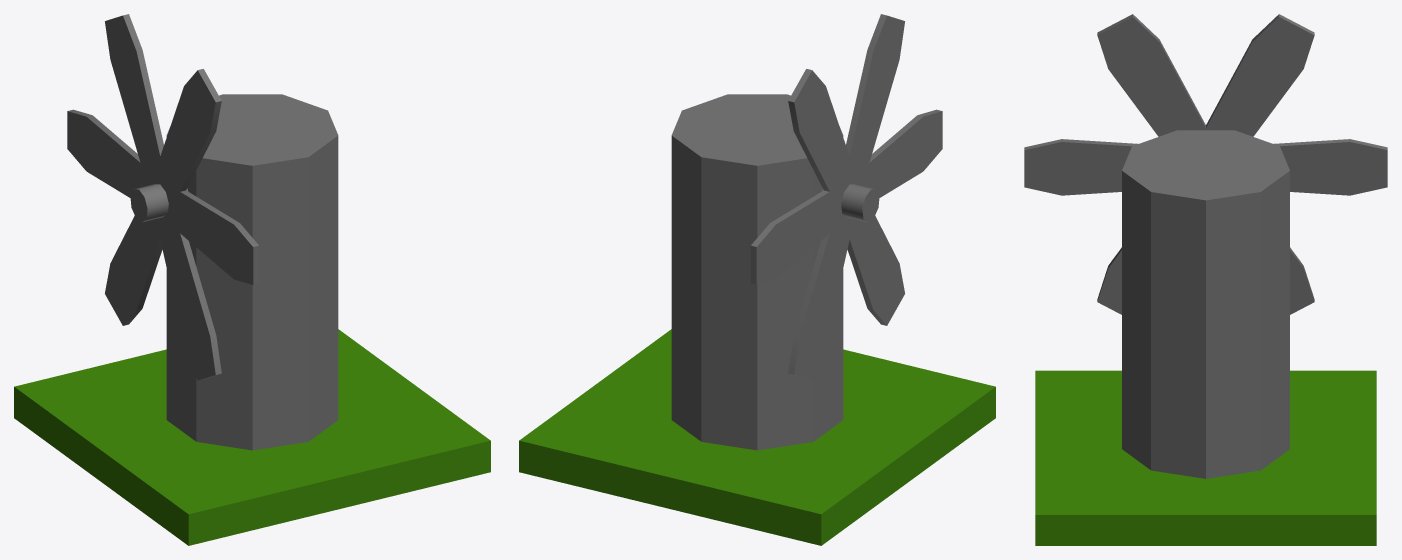
The model's file is Farm0.obj.
3 views of the same model, side by side, from view 1: azimuth 30°, elevation 25°; view 2: azimuth 150°, elevation 25°; view 3: azimuth 270°, elevation 25° (orthographic). The views are drawn at different scales.
Visible parts, largest first — view 1: Tilebase108, Cylinder040, Box698, Box701, Box699, Box700, Box697, Box702, Cylinder041; view 2: Tilebase108, Cylinder040, Box699, Box697, Box702, Box698, Box700, Box701, Cylinder041; view 3: Cylinder040, Tilebase108, Box699, Box698, Box700, Box697, Box702, Box701.
Boxes of the visible parts, box(x1,y1,x2,y2) form: Tilebase108: box(14, 329, 490, 545); Cylinder040: box(166, 94, 338, 450); Box698: box(105, 14, 165, 185); Box701: box(160, 206, 221, 380); Box699: box(154, 69, 221, 205); Box700: box(166, 184, 259, 284); Box697: box(67, 109, 154, 197); Box702: box(105, 215, 166, 325); Cylinder041: box(130, 184, 188, 222); Tilebase108: box(519, 329, 995, 545); Cylinder040: box(671, 94, 843, 450); Box699: box(843, 14, 904, 185); Box697: box(750, 183, 843, 284); Box702: box(788, 215, 854, 380); Box698: box(788, 69, 855, 191); Box700: box(855, 109, 942, 197); Box701: box(843, 215, 904, 325); Cylinder041: box(821, 184, 879, 222); Cylinder040: box(1122, 130, 1289, 478); Tilebase108: box(1035, 370, 1376, 545); Box699: box(1097, 14, 1206, 136); Box698: box(1206, 14, 1314, 136); Box700: box(1024, 139, 1137, 195); Box697: box(1274, 139, 1387, 195); Box702: box(1290, 247, 1314, 314); Box701: box(1097, 247, 1121, 314).
Size of the model in its own units: 10 by 13.44 by 10.65.
